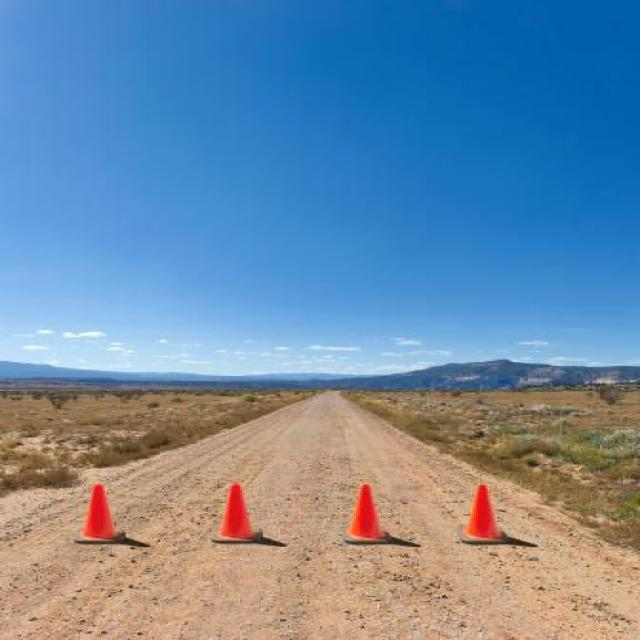Cone: (457, 484, 509, 545), (78, 483, 130, 542), (213, 482, 263, 540), (343, 484, 392, 542)
